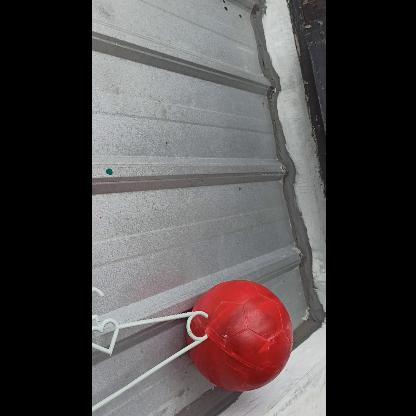red_ball: (185, 280, 295, 390)
